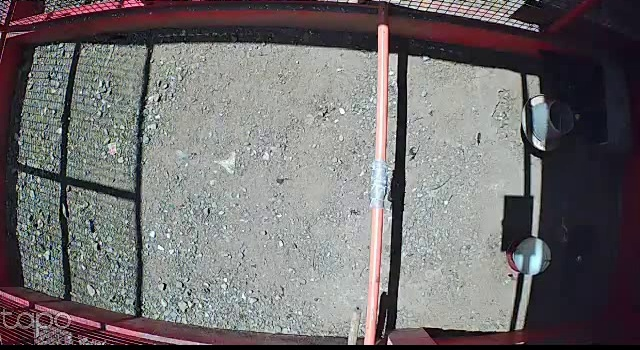Drinker: (504, 234, 551, 276)
Feeder: (520, 94, 578, 153)
